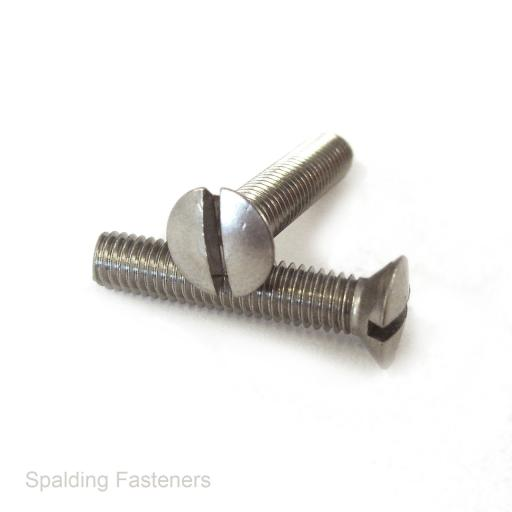Slotted: (165, 188, 277, 300)
